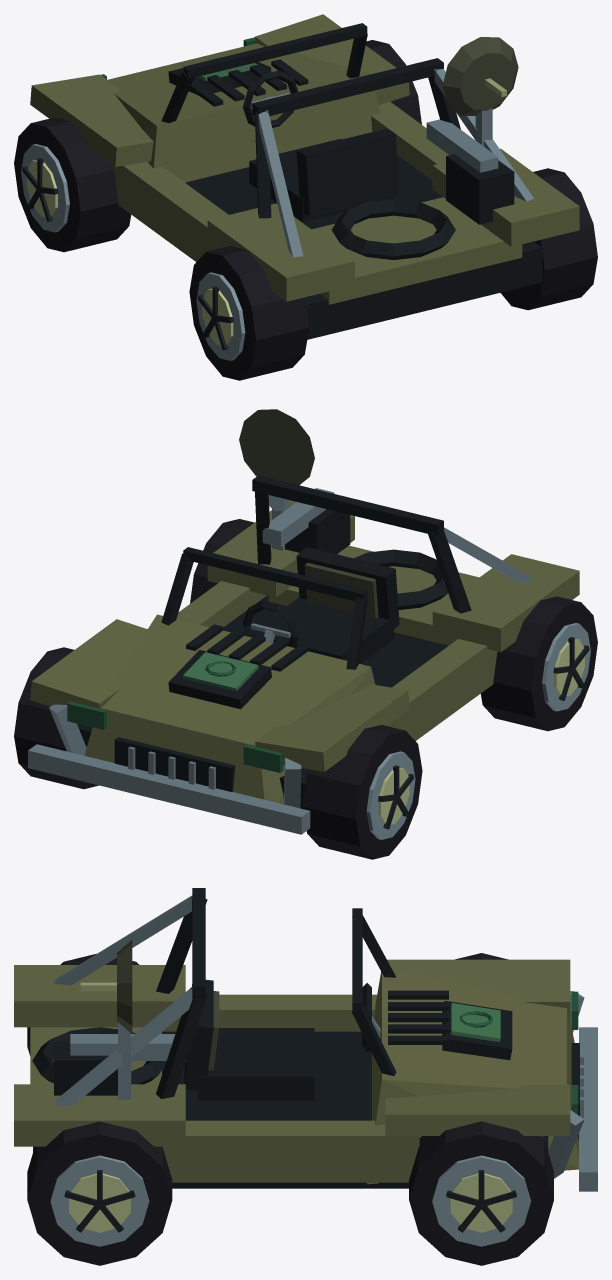
The model's file is kart.glb.
The picture shows the model from 3 angles, top to bottom: view 1: azimuth 30°, elevation 25°; view 2: azimuth 150°, elevation 25°; view 3: azimuth 270°, elevation 25°; orthographic projection. The views are drawn at different scales.
Parts seen in each view (by area): view 1: identity-warthog-warthog-sloped-armored-bonnet, identity-warthog-warthog-open-cage-and-cargo-bed, wheel-rear-left, wheel-front-left, identity-warthog-driver-cockpit, wheel-rear-right, identity-warthog-motif-radar, wheel-front-right, identity-warthog-motif-scanner; view 2: identity-warthog-warthog-sloped-armored-bonnet, identity-warthog-warthog-open-cage-and-cargo-bed, wheel-front-left, wheel-rear-left, identity-warthog-driver-cockpit, identity-warthog-motif-radar, identity-warthog-motif-scanner, wheel-front-right, wheel-rear-right; view 3: identity-warthog-warthog-sloped-armored-bonnet, identity-warthog-warthog-open-cage-and-cargo-bed, wheel-front-right, wheel-rear-right, identity-warthog-driver-cockpit, identity-warthog-motif-scanner, identity-warthog-motif-radar.
Boxes of the visible parts, x1,y1,x2,y2 form: identity-warthog-warthog-sloped-armored-bonnet: (30,14,579,339); identity-warthog-warthog-open-cage-and-cargo-bed: (161,23,533,304); wheel-rear-left: (189,246,309,380); wheel-front-left: (14,117,131,252); identity-warthog-driver-cockpit: (243,70,399,222); wheel-rear-right: (500,168,597,310); identity-warthog-motif-radar: (442,37,518,146); wheel-front-right: (365,40,421,124); identity-warthog-motif-scanner: (168,57,271,95); identity-warthog-warthog-sloped-armored-bonnet: (28,500,579,834); identity-warthog-warthog-open-cage-and-cargo-bed: (161,475,533,669); wheel-front-left: (302,725,422,859); wheel-rear-left: (480,596,597,731); identity-warthog-driver-cockpit: (243,547,399,663); identity-warthog-motif-radar: (239,409,314,550); identity-warthog-motif-scanner: (168,650,271,709); wheel-front-right: (14,647,98,789); wheel-rear-right: (190,519,254,603); identity-warthog-warthog-sloped-armored-bonnet: (14,959,597,1191); identity-warthog-warthog-open-cage-and-cargo-bed: (30,888,396,1106); wheel-front-right: (409,1121,553,1265); wheel-rear-right: (27,1121,172,1265); identity-warthog-driver-cockpit: (184,979,380,1100); identity-warthog-motif-scanner: (442,1000,512,1060); identity-warthog-motif-radar: (80,940,132,1099).
Bounding box in the file's own units: 2.37 × 1.65 × 3.06.
